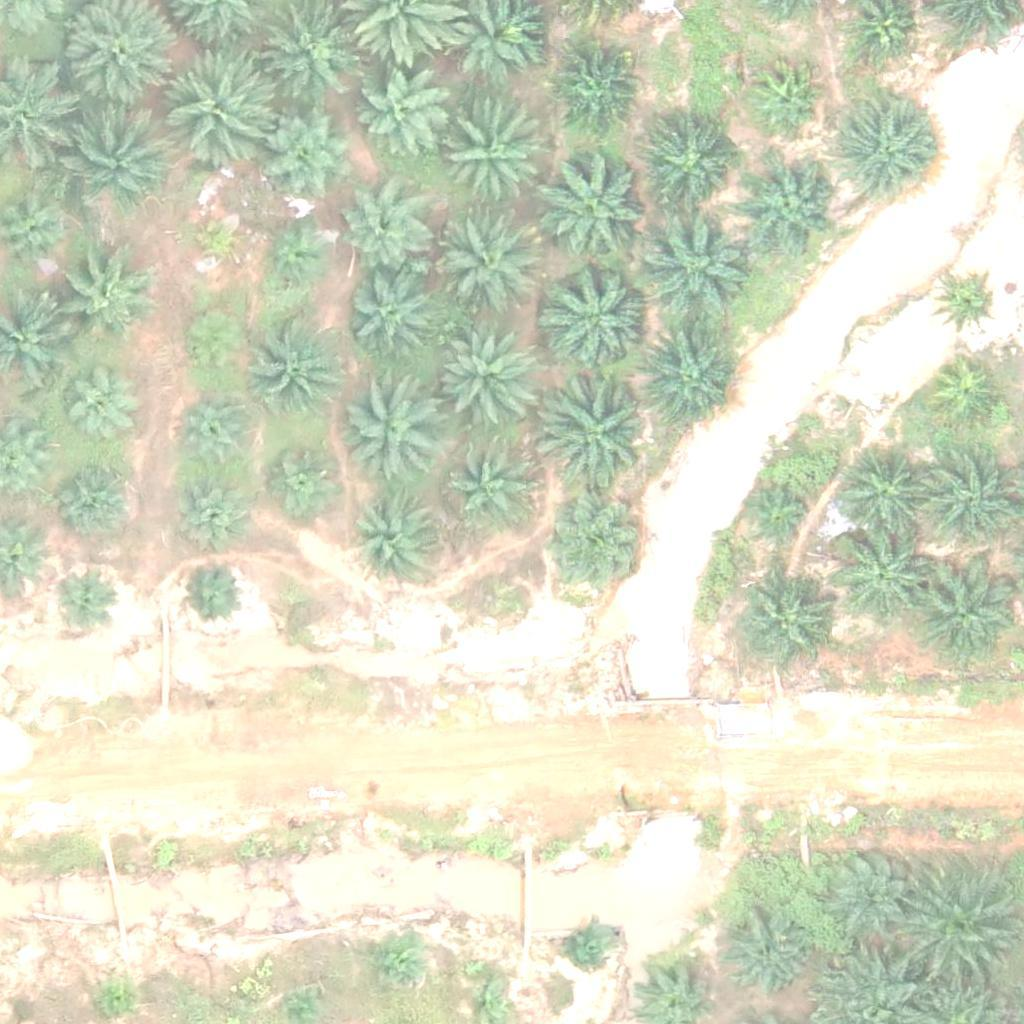Kelapa_Sawit: (908, 560, 1021, 673), (637, 206, 750, 319), (538, 150, 651, 263), (542, 261, 655, 374), (58, 96, 170, 210), (904, 876, 1016, 989), (541, 373, 653, 486), (159, 51, 271, 164), (816, 841, 916, 942), (919, 455, 1019, 556), (834, 446, 934, 547), (636, 327, 736, 428), (736, 572, 836, 673), (544, 500, 644, 601), (441, 107, 541, 208), (436, 219, 536, 320), (432, 327, 532, 428), (260, 100, 360, 201), (52, 248, 152, 349), (251, 314, 351, 415), (836, 104, 936, 204), (829, 526, 929, 626), (742, 157, 842, 257), (343, 379, 443, 479), (647, 124, 735, 212), (340, 187, 428, 275), (165, 470, 253, 558), (722, 912, 809, 1001), (343, 274, 430, 363), (550, 43, 637, 131), (450, 445, 537, 533), (352, 494, 439, 582), (358, 67, 445, 155), (175, 389, 262, 477), (58, 372, 133, 448), (60, 460, 135, 536), (259, 220, 334, 296), (748, 60, 823, 136), (178, 307, 253, 383), (266, 442, 341, 517), (927, 360, 1002, 435), (742, 484, 817, 559), (936, 273, 999, 336), (49, 568, 112, 631), (182, 564, 244, 627), (185, 208, 247, 271), (561, 918, 611, 968), (372, 935, 422, 985), (95, 980, 132, 1018)
